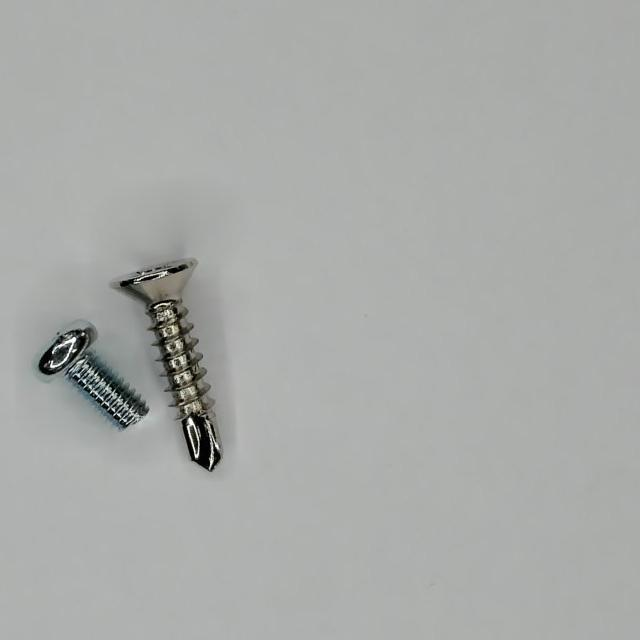Screw: (112, 258, 222, 472), (38, 321, 149, 430)
